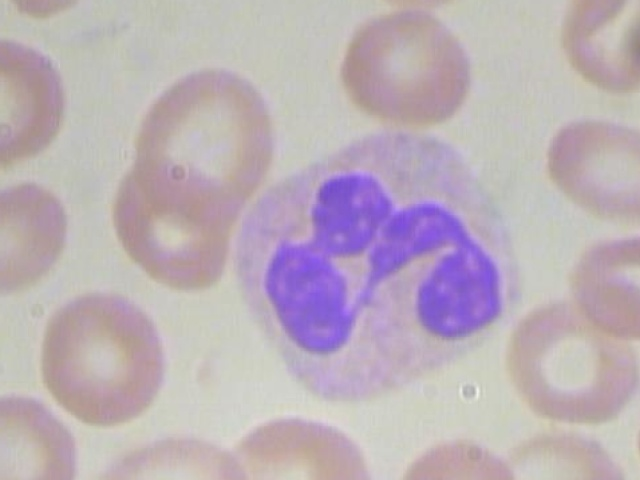RBC: (130, 51, 294, 238), (25, 287, 175, 431), (503, 277, 639, 429), (331, 1, 480, 136), (531, 112, 640, 227), (0, 30, 78, 166), (222, 416, 379, 480), (545, 0, 640, 100), (0, 169, 73, 297), (100, 422, 254, 480), (383, 419, 527, 480), (560, 232, 640, 340), (0, 390, 85, 480), (490, 426, 627, 480)
WBC: (219, 111, 523, 417)
